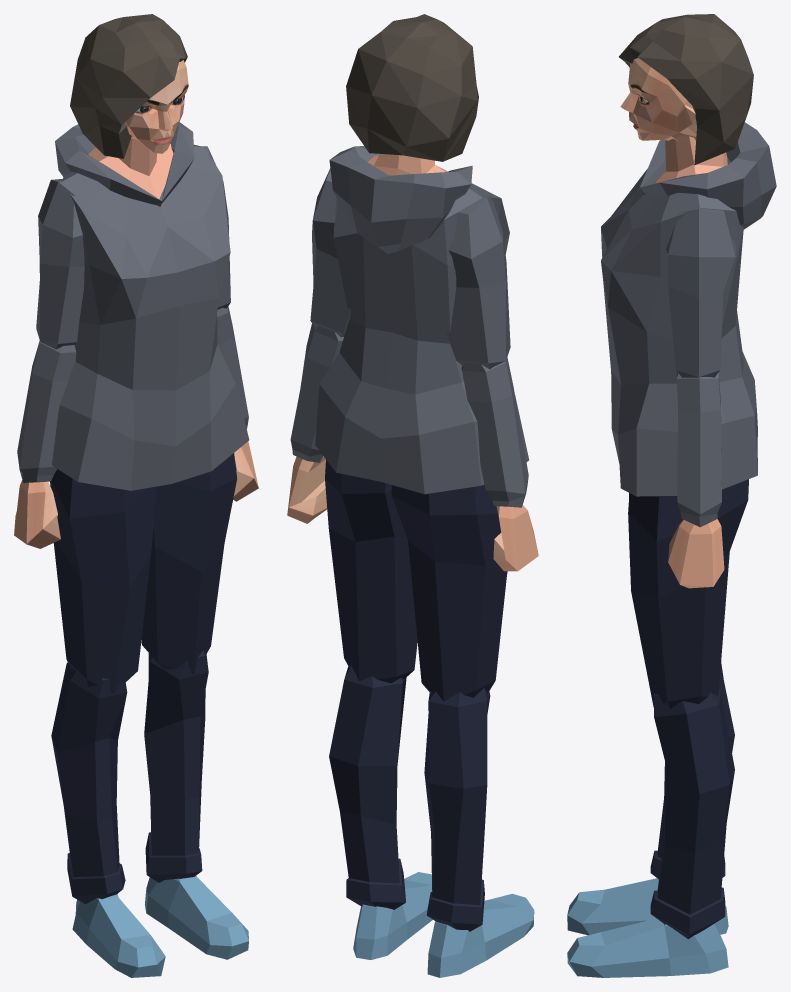
Rendered from hoodieTestDummy.fbx.
3 views of the same model, side by side, from view 1: azimuth 30°, elevation 25°; view 2: azimuth 150°, elevation 25°; view 3: azimuth 270°, elevation 25° (orthographic). The views are drawn at different scales.
Parts seen in each view (by area): view 1: HoodieJean_torso, HoodieJean_thight_R, HoodieJean_thigh_L, HoodieJean_calf_R, HoodieJean_calf_L, HoodieJean_hair, HoodieJean_forearm_R1, HoodieJean_foot_L, HoodieJean_forearm_R, HoodieJean_foot_R, HoodieJean_head, HoodieJean_hand_R (+3 smaller); view 2: HoodieJean_torso, HoodieJean_thight_R, HoodieJean_hair, HoodieJean_thigh_L, HoodieJean_calf_L, HoodieJean_calf_R, HoodieJean_forearm_R1, HoodieJean_forearm_R, HoodieJean_foot_R, HoodieJean_arm_L, HoodieJean_foot_L, HoodieJean_foerarm_L (+2 smaller); view 3: HoodieJean_torso, HoodieJean_calf_L, HoodieJean_thigh_L, HoodieJean_hair, HoodieJean_arm_L, HoodieJean_foot_L, HoodieJean_foerarm_L, HoodieJean_head, HoodieJean_foot_R, HoodieJean_hand_L, HoodieJean_calf_R.
Part boxes in pixels (left/top/right/bottom): HoodieJean_torso: left=52, top=122, right=249, bottom=490; HoodieJean_thight_R: left=50, top=469, right=154, bottom=693; HoodieJean_thigh_L: left=141, top=453, right=237, bottom=674; HoodieJean_calf_R: left=51, top=662, right=127, bottom=904; HoodieJean_calf_L: left=144, top=650, right=208, bottom=882; HoodieJean_hair: left=70, top=14, right=187, bottom=158; HoodieJean_forearm_R1: left=36, top=179, right=84, bottom=349; HoodieJean_foot_L: left=145, top=876, right=248, bottom=959; HoodieJean_forearm_R: left=17, top=341, right=76, bottom=482; HoodieJean_foot_R: left=72, top=894, right=165, bottom=977; HoodieJean_head: left=125, top=60, right=188, bottom=153; HoodieJean_hand_R: left=14, top=480, right=60, bottom=548; HoodieJean_torso: left=315, top=146, right=528, bottom=494; HoodieJean_thight_R: left=391, top=484, right=507, bottom=701; HoodieJean_hair: left=346, top=14, right=478, bottom=161; HoodieJean_thigh_L: left=325, top=460, right=417, bottom=683; HoodieJean_calf_L: left=329, top=665, right=406, bottom=909; HoodieJean_calf_R: left=424, top=688, right=490, bottom=931; HoodieJean_forearm_R1: left=446, top=195, right=510, bottom=369; HoodieJean_forearm_R: left=461, top=357, right=528, bottom=507; HoodieJean_foot_R: left=427, top=894, right=534, bottom=977; HoodieJean_arm_L: left=310, top=168, right=350, bottom=337; HoodieJean_foot_L: left=353, top=872, right=432, bottom=959; HoodieJean_foerarm_L: left=290, top=323, right=343, bottom=462; HoodieJean_torso: left=601, top=122, right=776, bottom=496; HoodieJean_calf_L: left=650, top=690, right=734, bottom=939; HoodieJean_thigh_L: left=628, top=479, right=748, bottom=708; HoodieJean_hair: left=619, top=14, right=753, bottom=165; HoodieJean_arm_L: left=666, top=208, right=735, bottom=377; HoodieJean_foot_L: left=567, top=918, right=728, bottom=977; HoodieJean_foerarm_L: left=676, top=372, right=721, bottom=527; HoodieJean_head: left=620, top=58, right=696, bottom=141; HoodieJean_foot_R: left=567, top=878, right=728, bottom=935; HoodieJean_hand_L: left=668, top=519, right=724, bottom=588; HoodieJean_calf_R: left=650, top=662, right=734, bottom=879.
Size of the model in its own units: 43.33 by 161 by 32.92.
